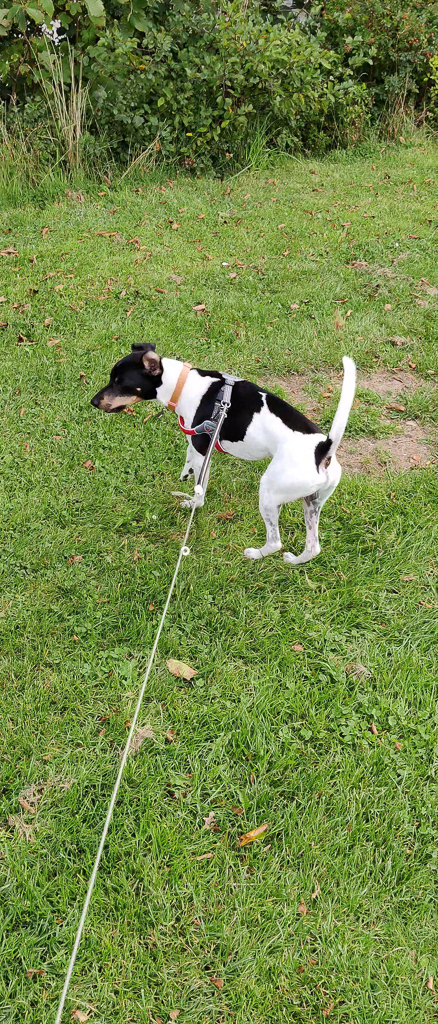Dog: (73, 330, 375, 575)
